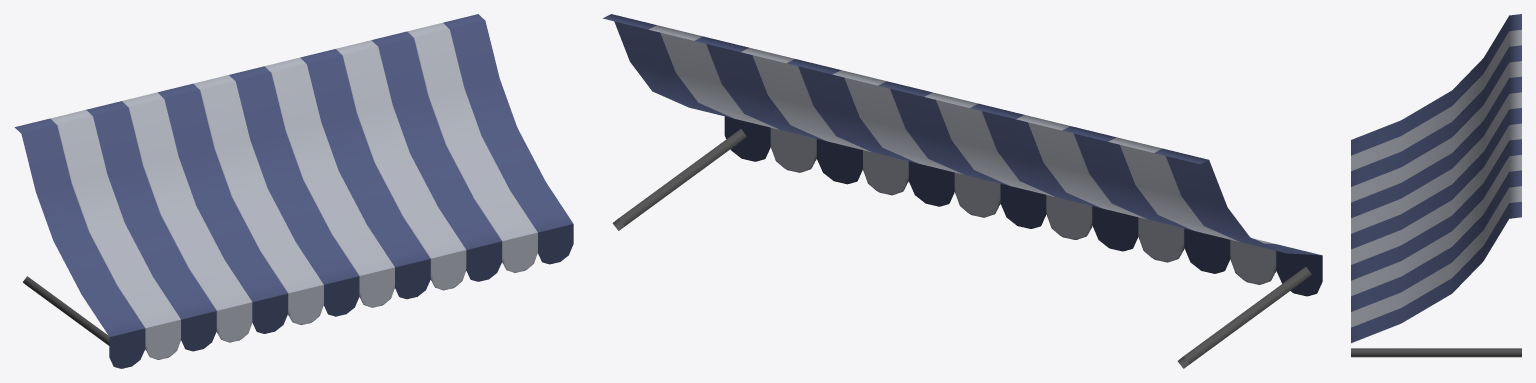
Rendered from Awning_A2.fbx.
The picture shows the model from 3 angles, left to right: view 1: azimuth 30°, elevation 25°; view 2: azimuth 150°, elevation 25°; view 3: azimuth 270°, elevation 25°; orthographic projection. The views are drawn at different scales.
Parts seen in each view (by area): view 1: Awning_A2; view 2: Awning_A2; view 3: Awning_A2.
Boxes of the visible parts, x1,y1,x2,y2 form: Awning_A2: (14,14,573,368); Awning_A2: (603,14,1322,368); Awning_A2: (1351,14,1521,357).
Size of the model in its own units: 454 by 164 by 161.
1 material, 1 textured.
